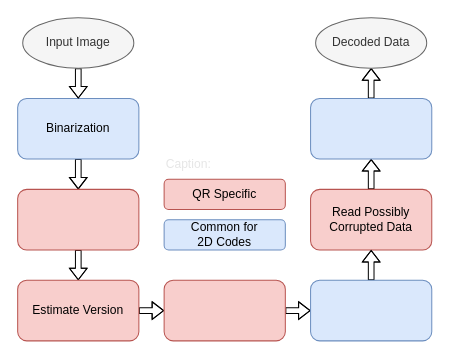
The diagram is 449 pixels wide and 359 high, and some of its shapes have lost their labels. Each missing label, with the centre of its shape:
Alignment Patterns: the point at 224,310
Finder Patterns: the point at 78,219
Perspective Transformation: the point at 371,310
Reed-Solomon Error Correction: the point at 371,128
